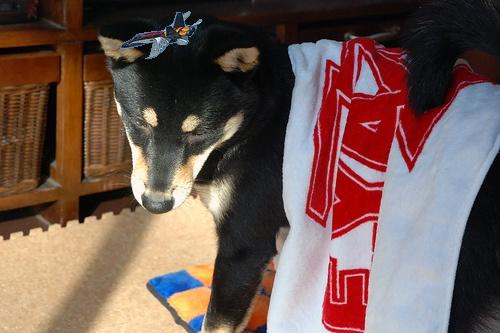tampered: (122, 12, 202, 59)
